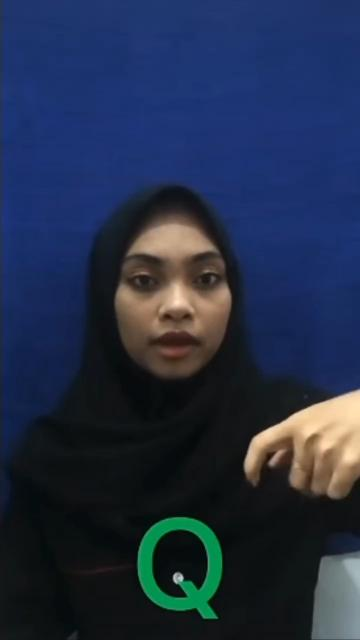Q: (241, 394, 360, 500)
